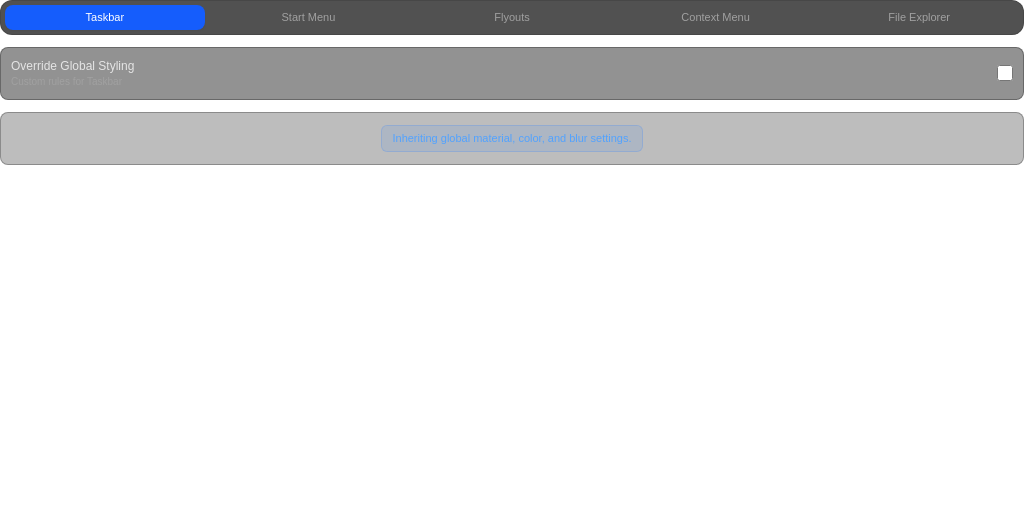
Scenario: ComponentIsolationSection › toggling override enables controls and updates store for active tab
Click the checkbox labelled "Override Global Styling Custom rules for Taskbar".
click(1005, 73)  # box [997,65,1013,81]
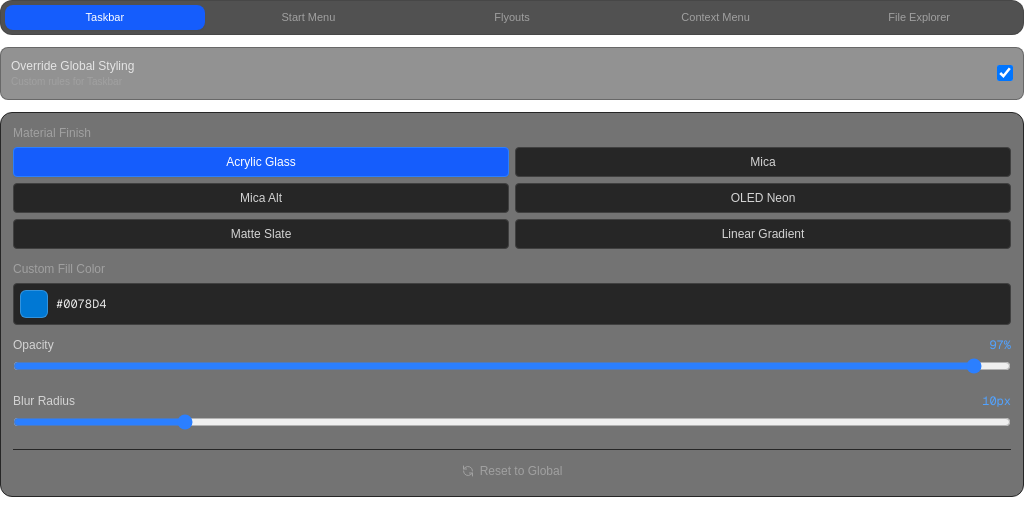
Check: the text "Inheriting global material, color, and blur settings." is gone
Check: the slider named "Component Opacity" is shown, box [13,358,1011,374]
Check: the slider named "Component Blur" is shown, box [13,414,1011,430]
